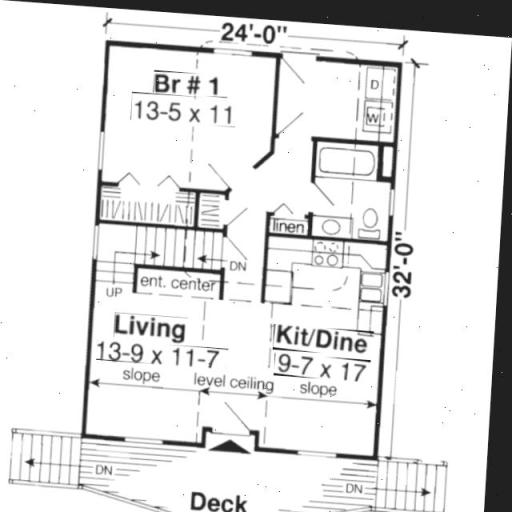bedroom: (108, 50, 276, 223)
hall: (93, 260, 261, 444)
kitchen: (273, 236, 395, 458)
